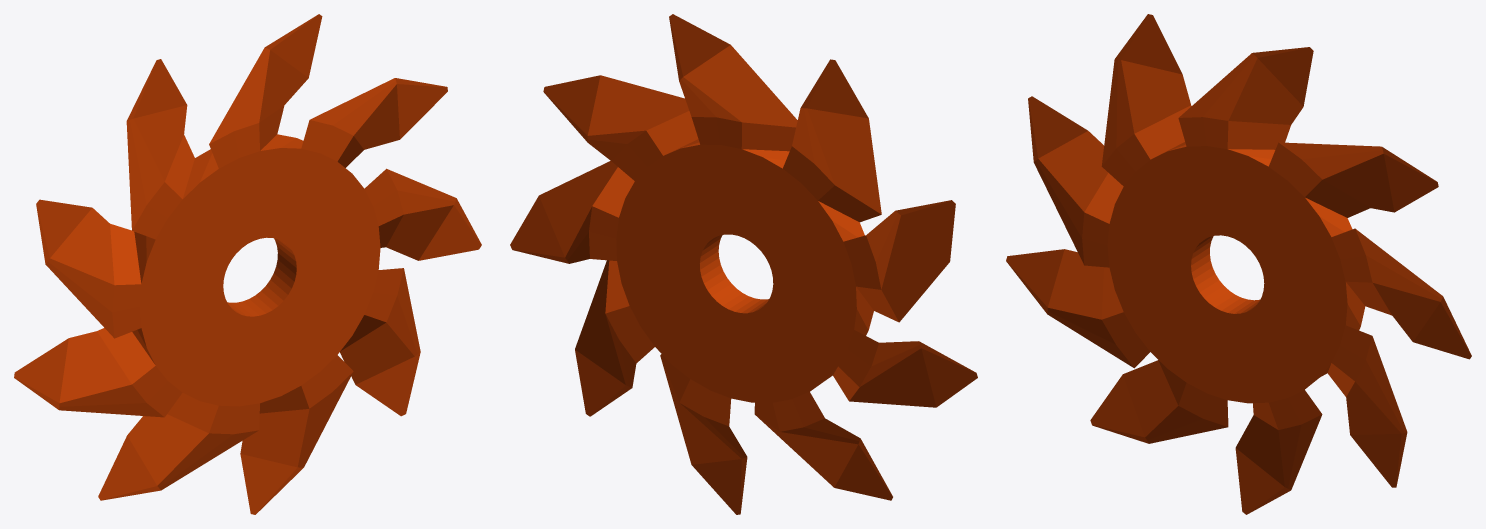
File: Obstacle.fbx
The picture shows the model from 3 angles, left to right: view 1: azimuth 30°, elevation 25°; view 2: azimuth 150°, elevation 25°; view 3: azimuth 330°, elevation 25°; orthographic projection.
Visible parts, largest first — view 1: obstacle; view 2: obstacle; view 3: obstacle.
Part boxes in pixels (x1,y1,x2,y2): obstacle: (14,14,481,514); obstacle: (510,14,977,514); obstacle: (1006,14,1471,514).
Size of the model in its own units: 165 by 163 by 12.01.
